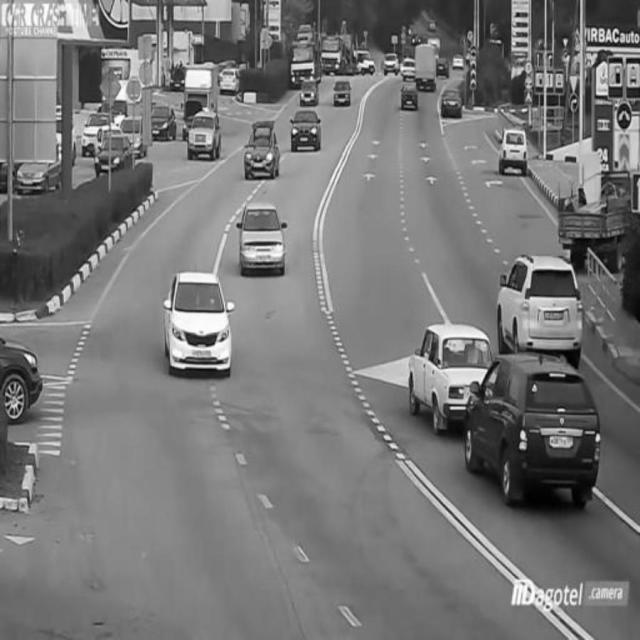vehicle: (464, 356, 598, 516), (496, 255, 590, 358), (405, 324, 493, 425), (163, 265, 235, 378), (556, 168, 634, 270), (239, 197, 290, 285), (1, 334, 46, 415), (183, 107, 221, 168), (244, 119, 279, 177), (91, 126, 129, 178), (288, 113, 329, 160), (289, 38, 324, 88), (413, 39, 440, 93), (498, 127, 528, 175), (149, 99, 179, 141), (294, 73, 322, 105), (400, 73, 420, 113), (442, 84, 464, 119), (331, 73, 351, 109), (380, 48, 398, 76)
